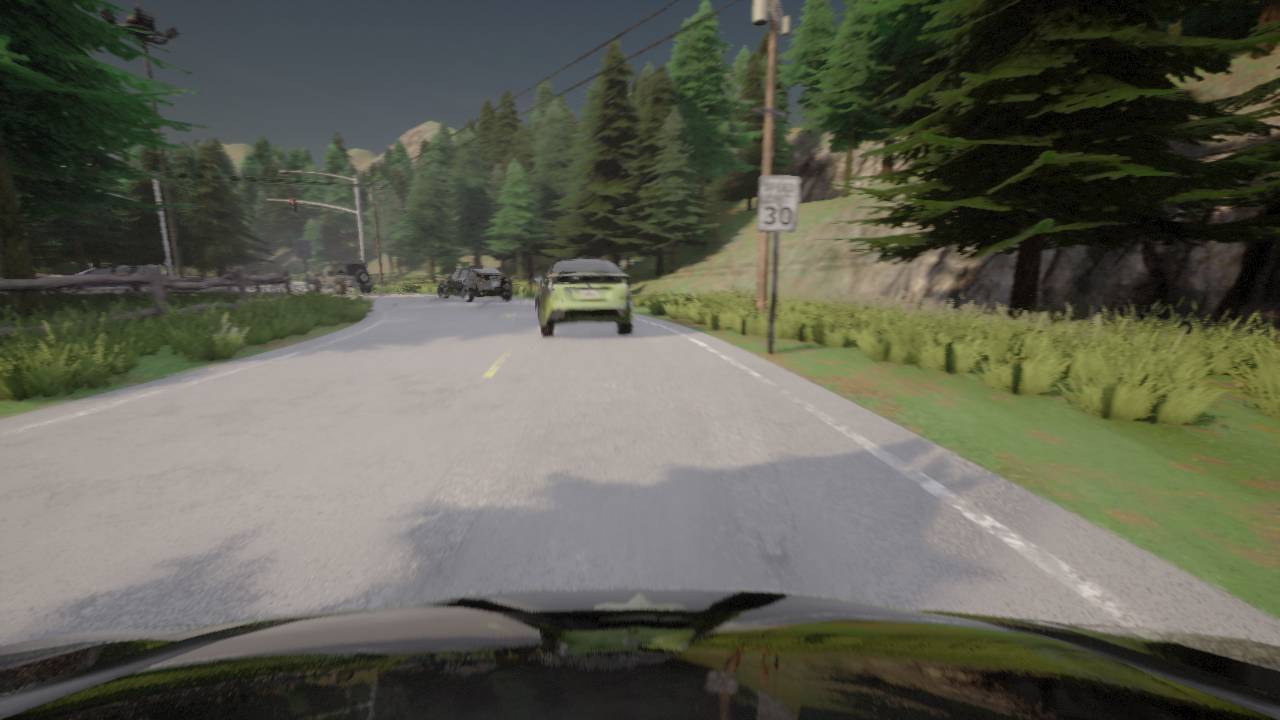cyclist: (0, 588, 1279, 719), (533, 258, 632, 336), (47, 266, 167, 292), (438, 267, 511, 302), (309, 262, 373, 294)
